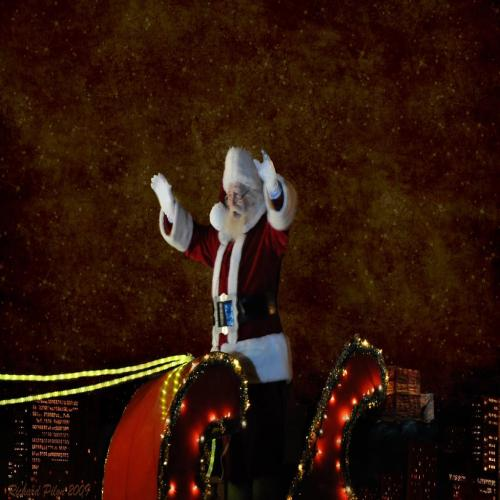Santa: (151, 142, 298, 386)
